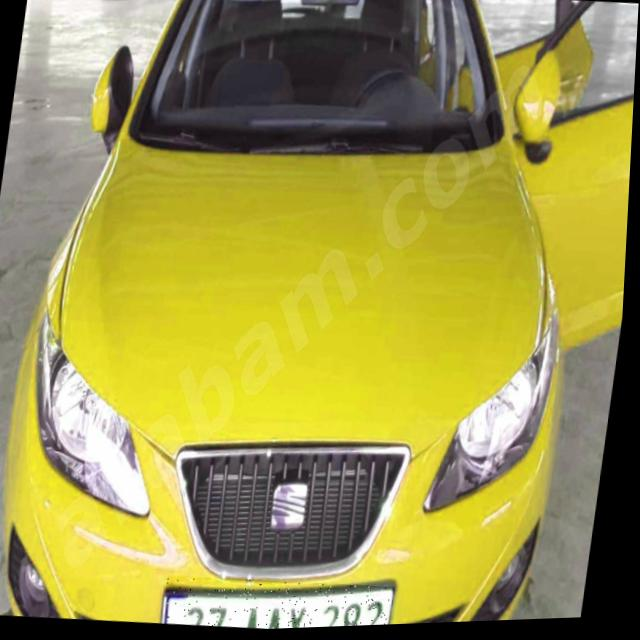license_plate: (167, 570, 401, 634)
